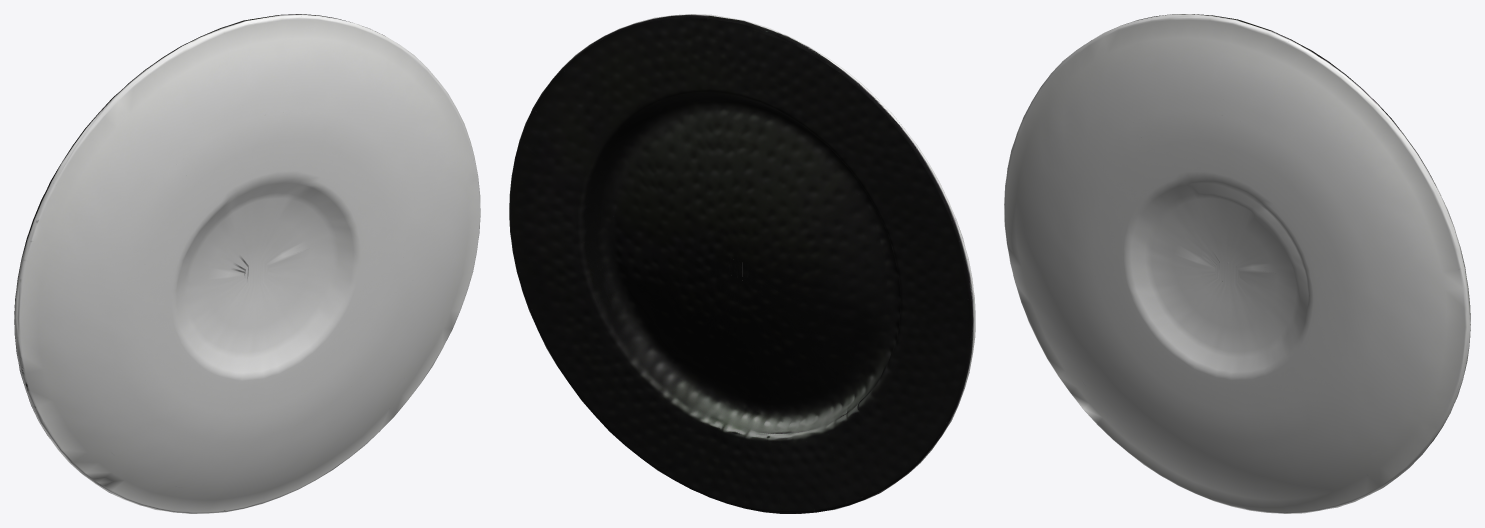
Rendered from Black_Hammered_Charge_0225003844_texture.glb.
3 views of the same model, side by side, from view 1: azimuth 30°, elevation 25°; view 2: azimuth 150°, elevation 25°; view 3: azimuth 330°, elevation 25° (orthographic).
Visible parts, largest first — view 1: Mesh_0; view 2: Mesh_0; view 3: Mesh_0.
Boxes of the visible parts, x1,y1,x2,y2 form: Mesh_0: [14, 14, 480, 513]; Mesh_0: [509, 14, 975, 513]; Mesh_0: [1004, 14, 1470, 513].
Bounding box in the file's own units: 0.0254 × 0.0254 × 0.00214.
Materials: 1 (1 with a texture image).
